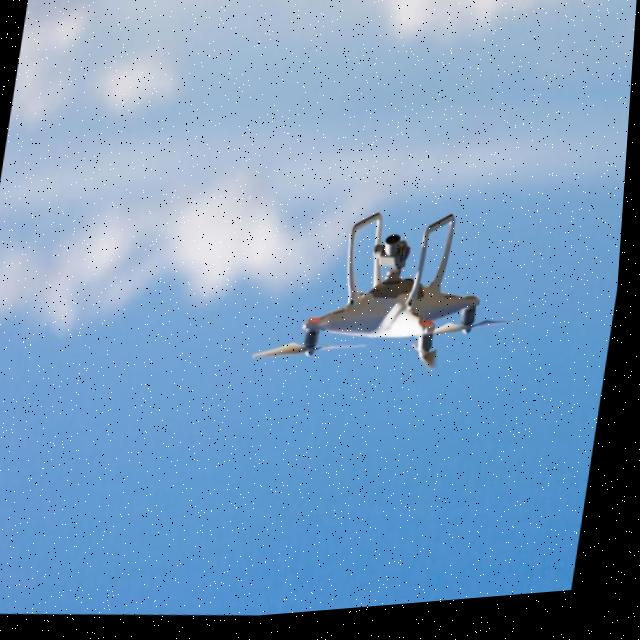drones: (234, 167, 535, 417)
